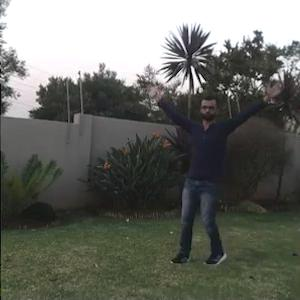takeoff: (150, 86, 287, 267)
